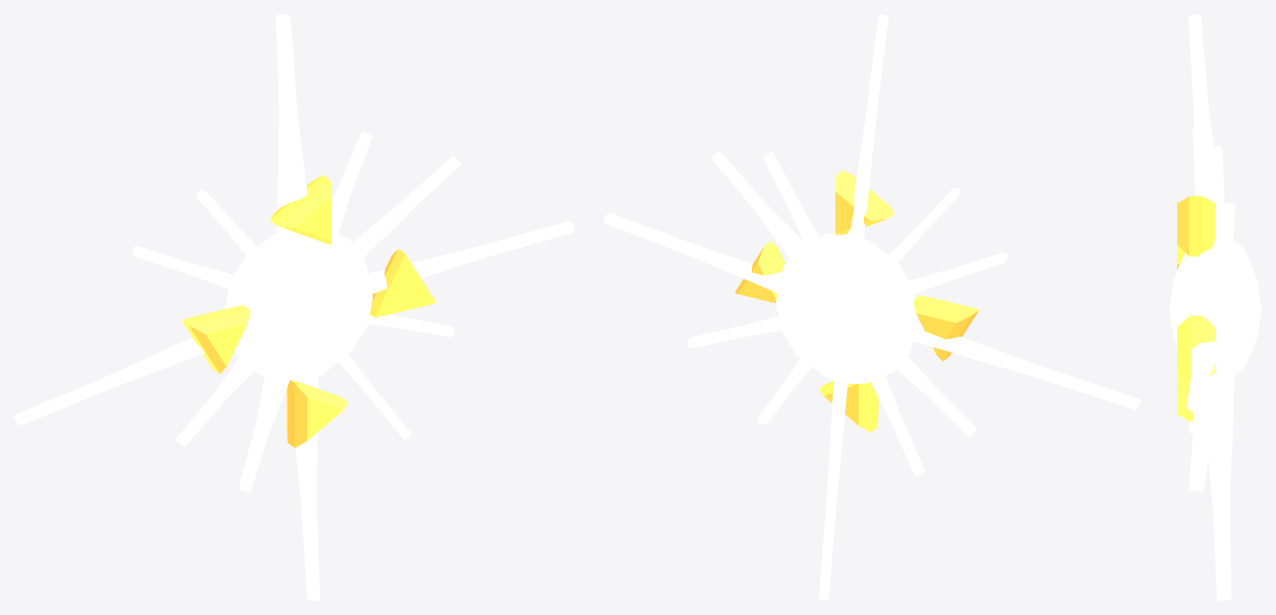
Rendered from fx_parry.glb.
The picture shows the model from 3 angles, left to right: view 1: azimuth 30°, elevation 25°; view 2: azimuth 150°, elevation 25°; view 3: azimuth 270°, elevation 25°; orthographic projection. The views are drawn at different scales.
Visible parts, largest first — view 1: parry-spark-star; view 2: parry-spark-star; view 3: parry-spark-star.
Boxes of the visible parts, bbox=[...] form: parry-spark-star: bbox=[14, 14, 574, 600]; parry-spark-star: bbox=[603, 14, 1140, 600]; parry-spark-star: bbox=[1169, 14, 1261, 600].
Size of the model in its own units: 0.7752 by 0.8093 by 0.12.
